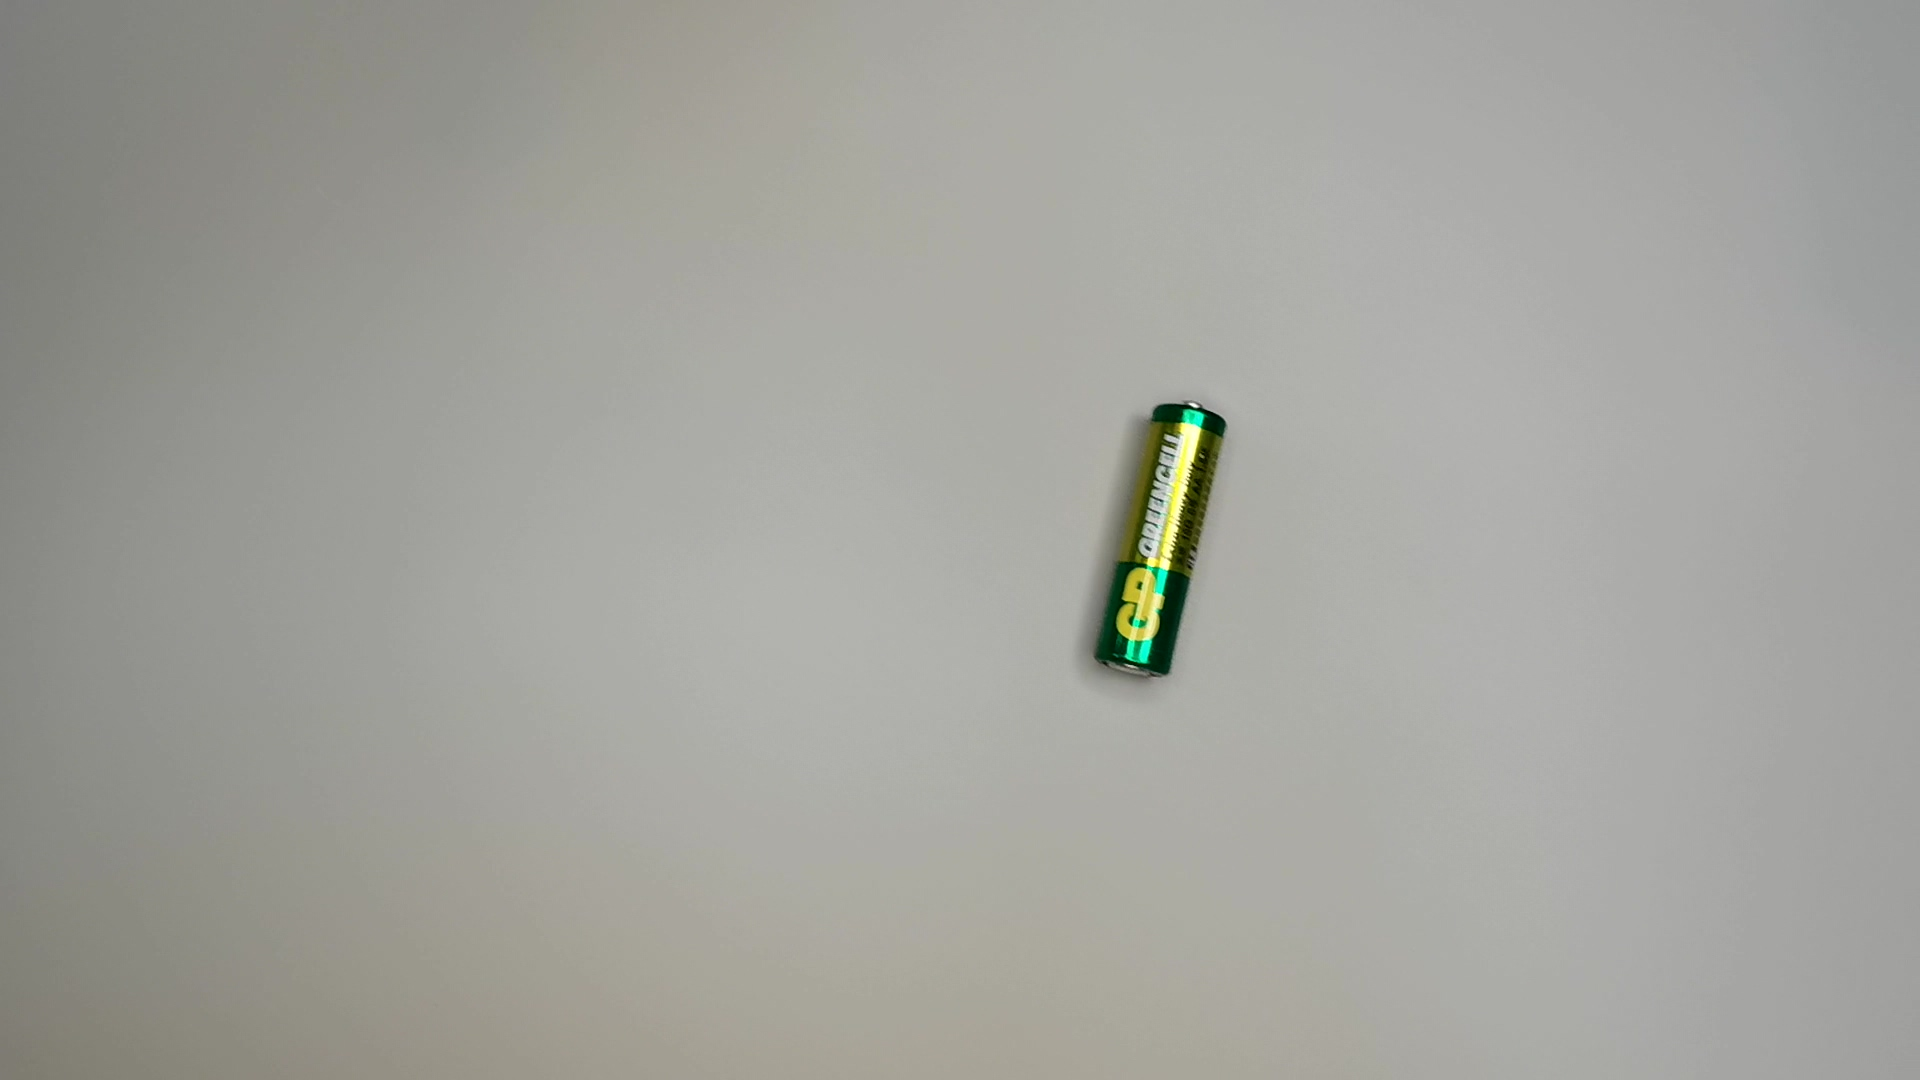battery: (1089, 397, 1233, 684)
